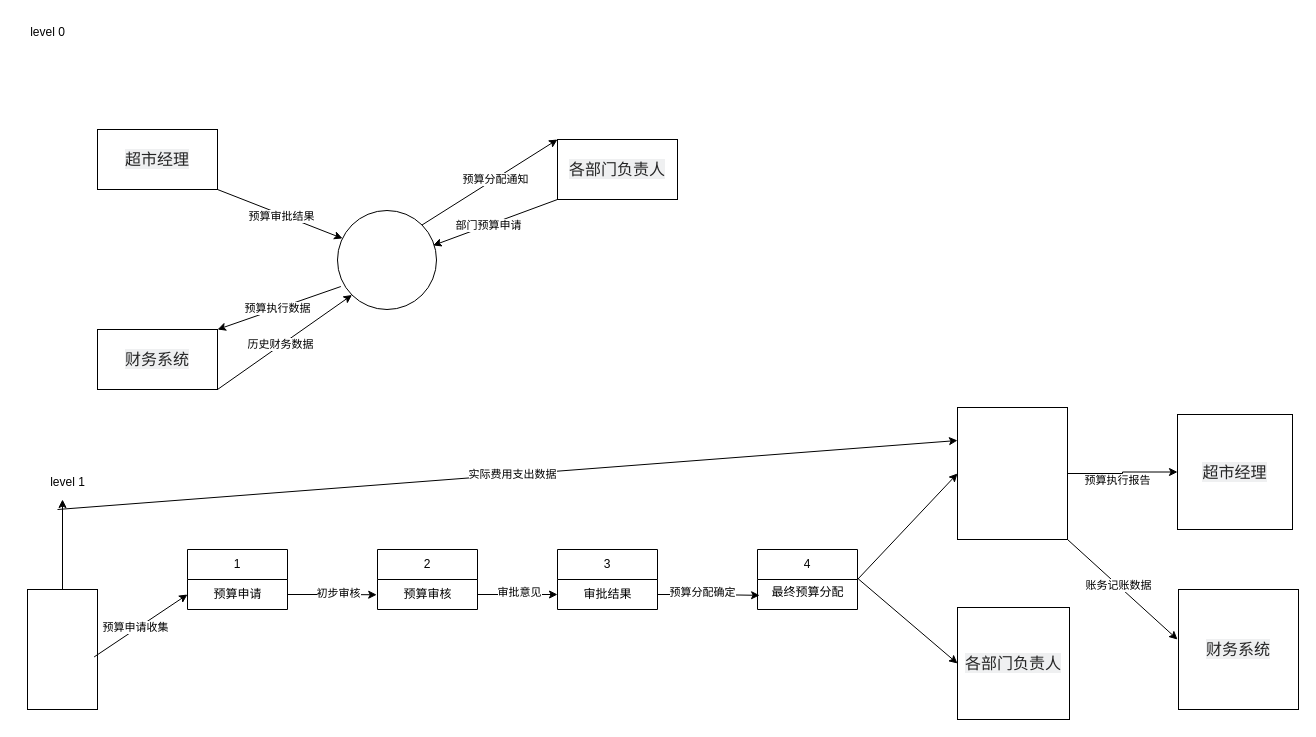
This 1316x737 diagram has some shape labels left out. Each missing label, with the centre of its shape:
"各部门" goes at point 62,649.
"预算执行记录" goes at point 1012,473.
"预算管理" goes at point 386,260.
